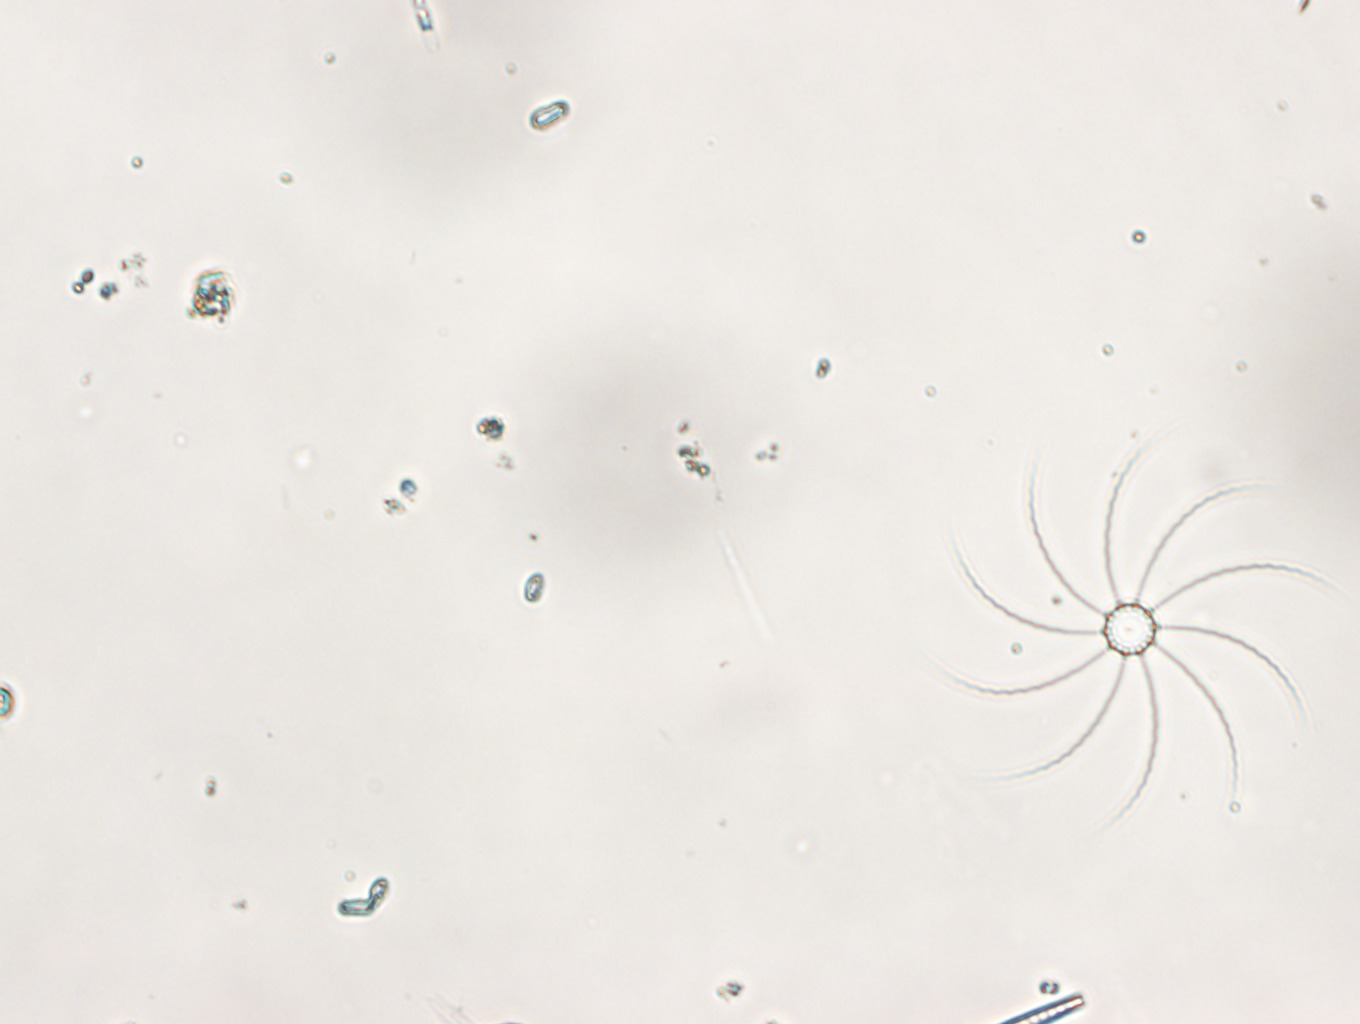bacteriastrum: (936, 438, 1332, 825)
